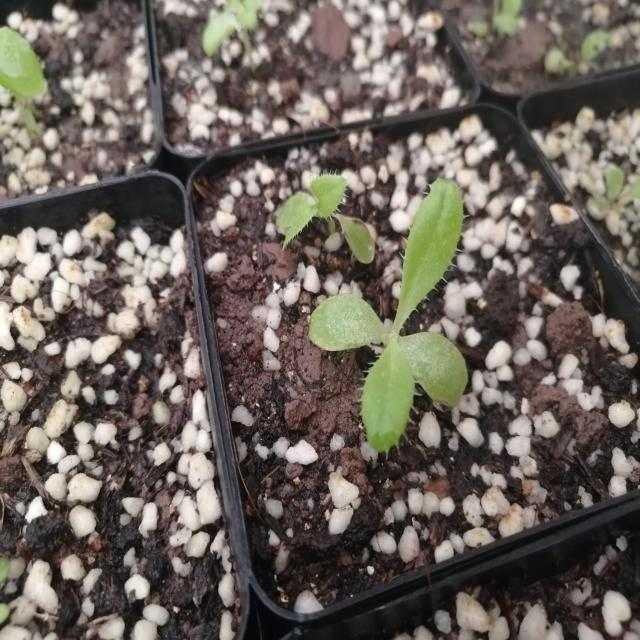field_thistle: (258, 150, 488, 443)
